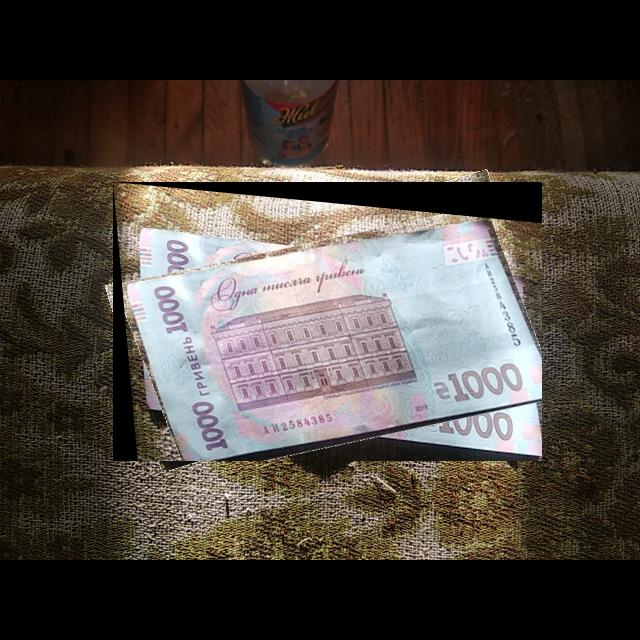1000uah: (121, 211, 543, 462)
